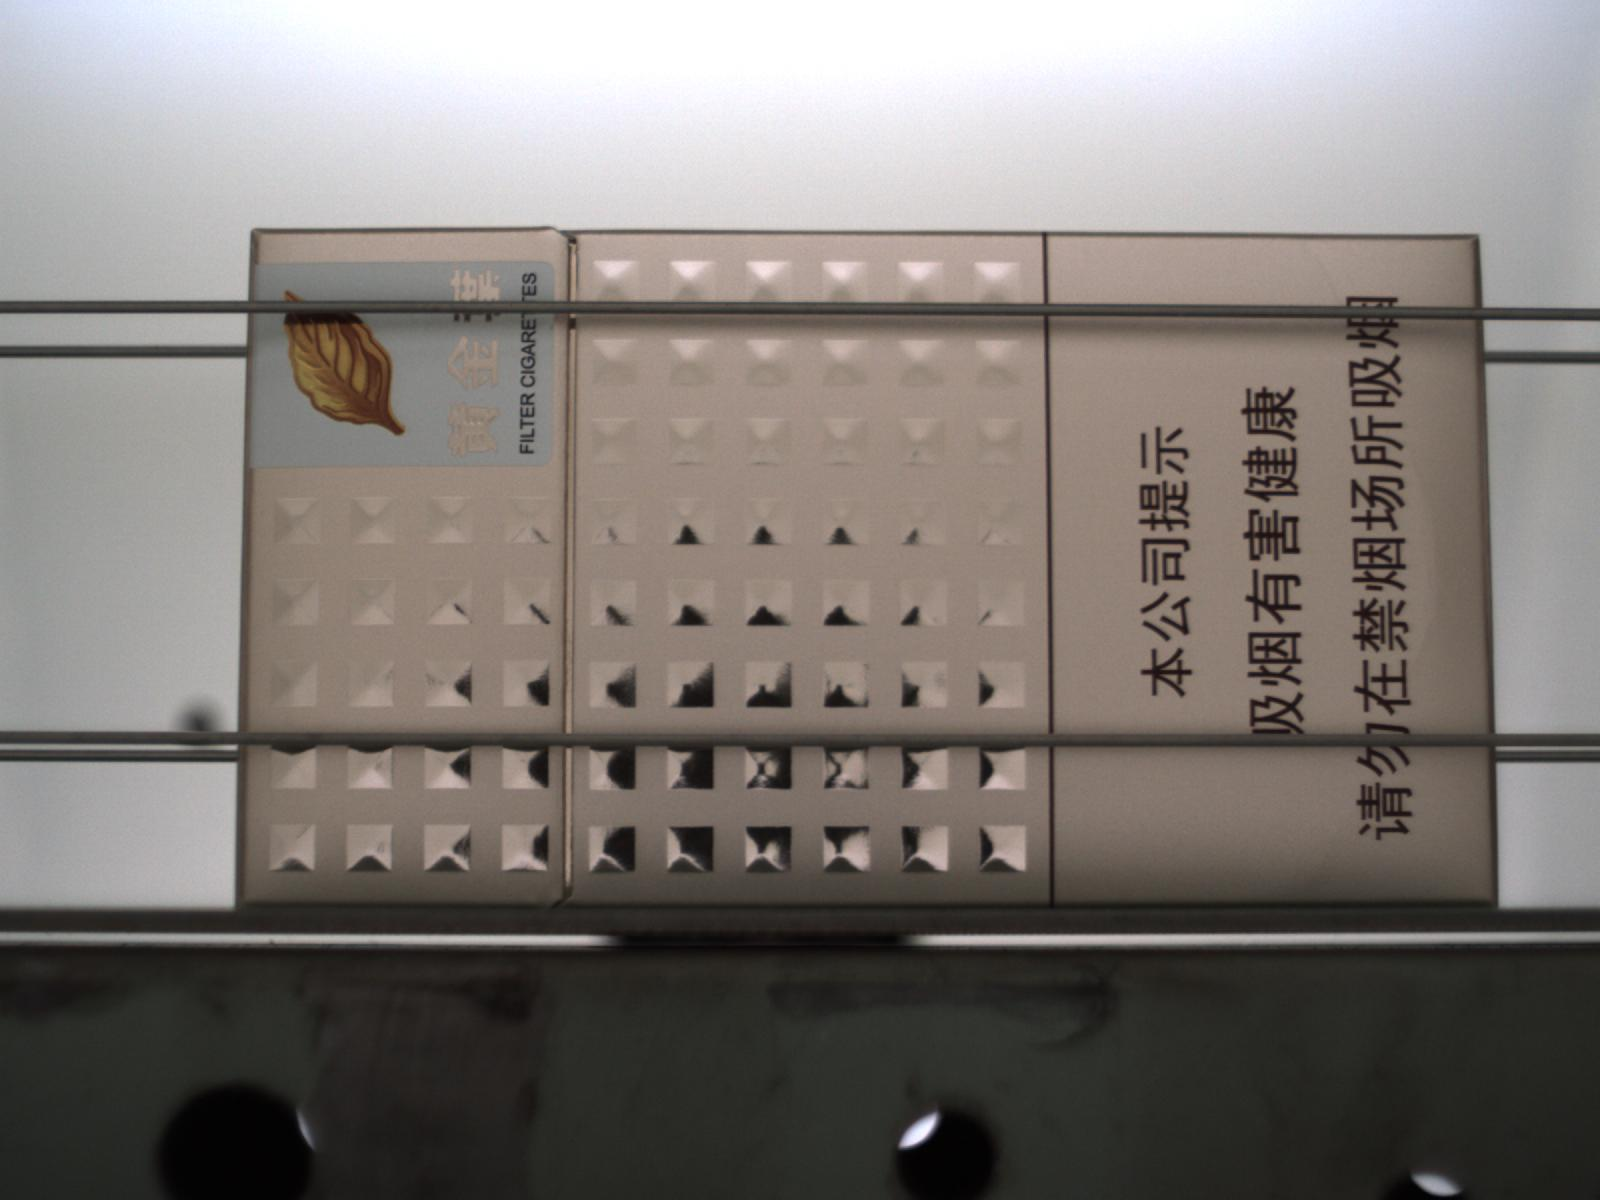crease: (1405, 455, 1446, 663)
